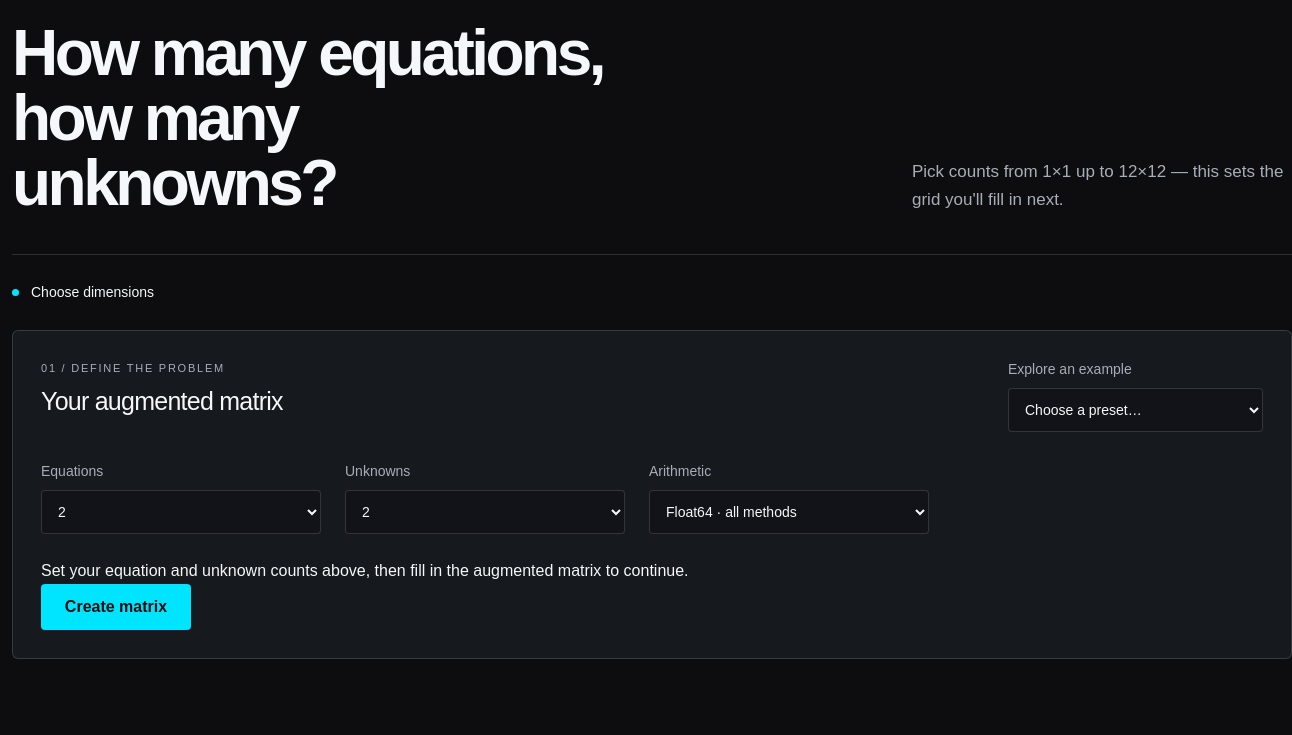
Test: network errors remain separate from mathematical outcomes
The width and height of the screenshot is (1292, 735).
Select "Unique · a gentle start" in the dropdown labelled "Explore an example" at (1136, 410), box 1008,388 -> 1263,432
(page scrolled)
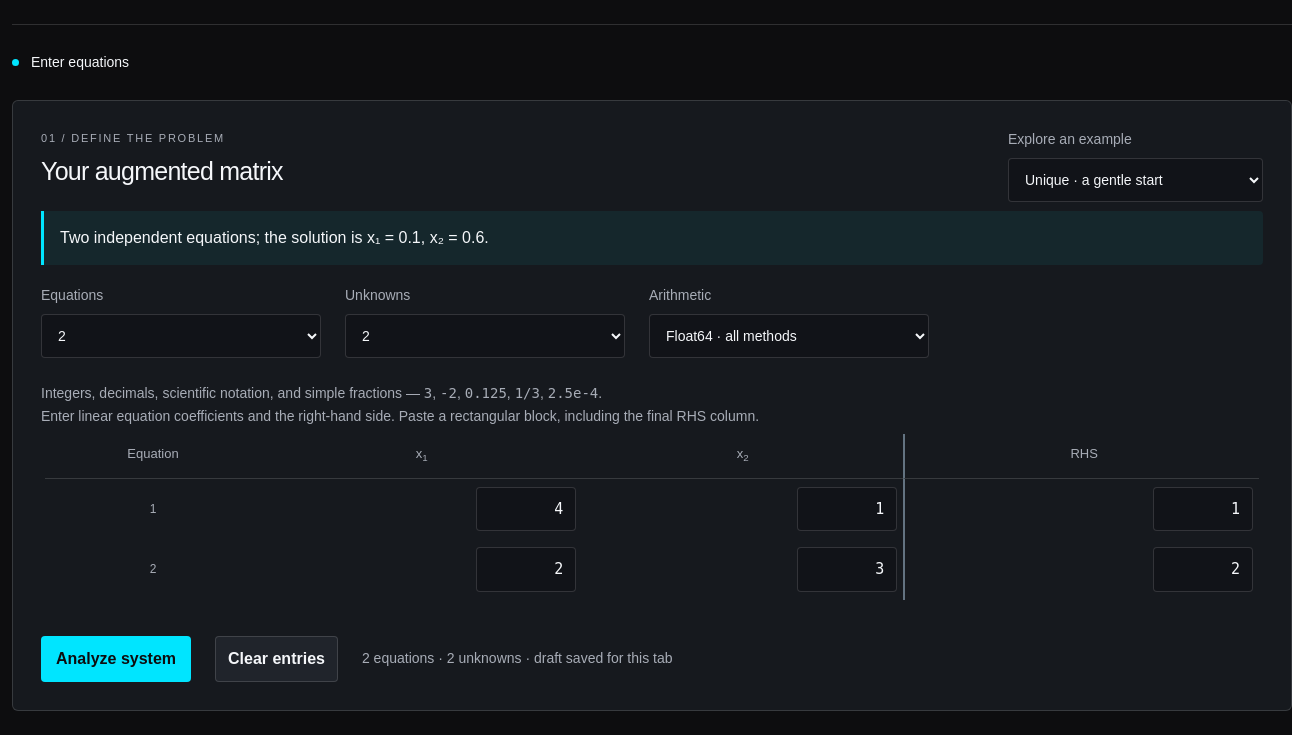
Click the button "Analyze system" at (116, 659), box 41,636 -> 191,682
(page scrolled)
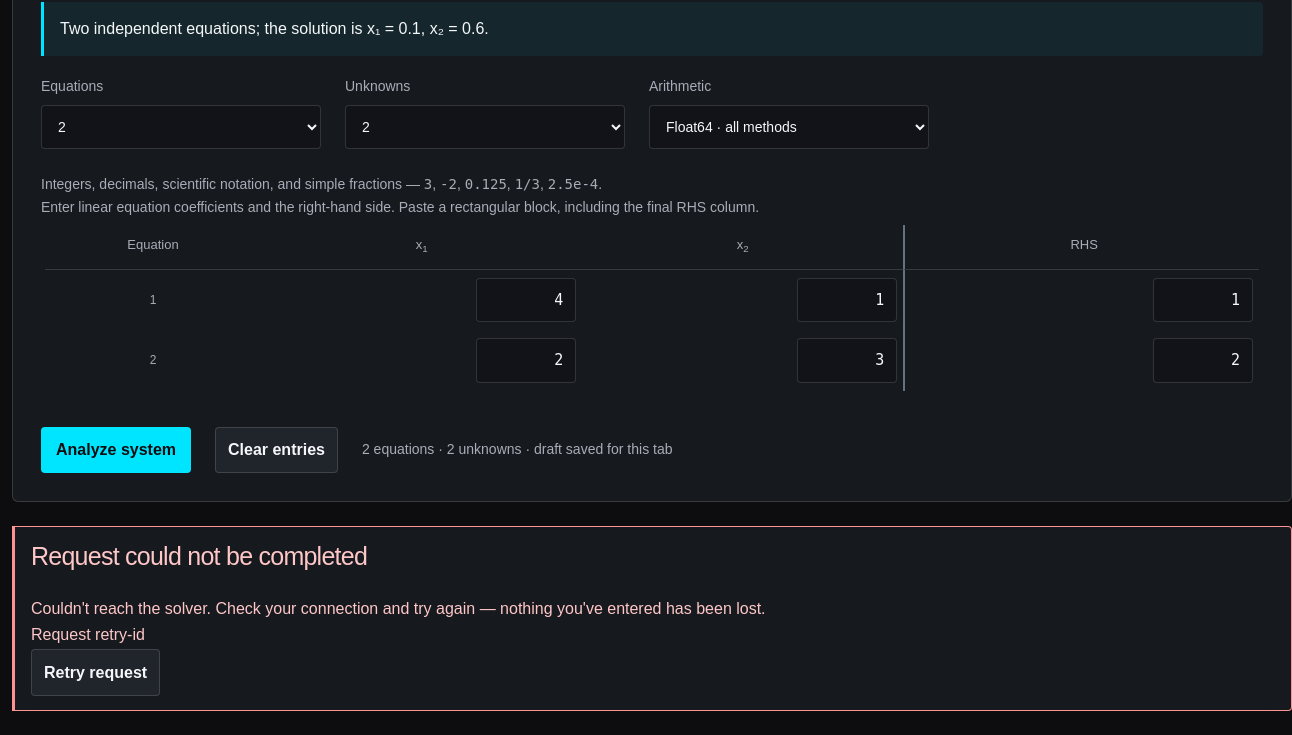
Expected: the heading "Request could not be completed" is shown, 31,542 -> 367,570
Expected: the text "Request retry-id" is shown, 31,626 -> 145,643
